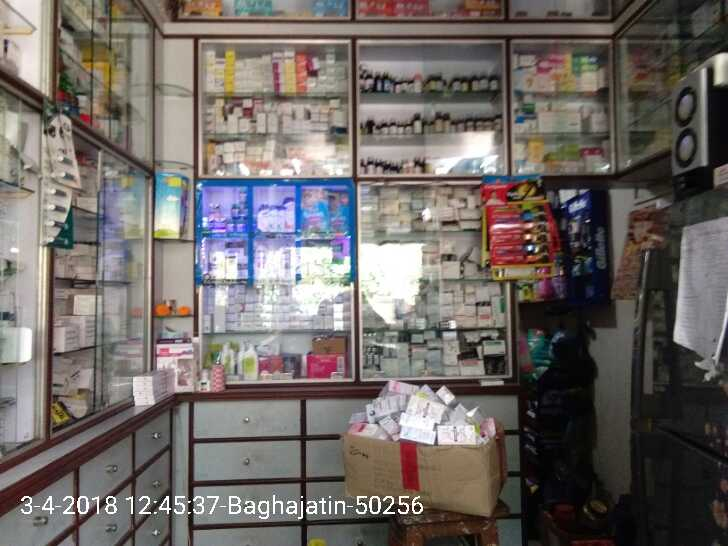oralcare: (492, 265, 556, 278), (495, 233, 558, 244), (495, 244, 551, 256), (492, 207, 546, 217), (492, 256, 551, 265), (492, 222, 558, 230)
vicks: (216, 217, 225, 231), (235, 221, 247, 231), (233, 202, 240, 218), (226, 219, 234, 231), (208, 220, 216, 231), (209, 206, 218, 215)
